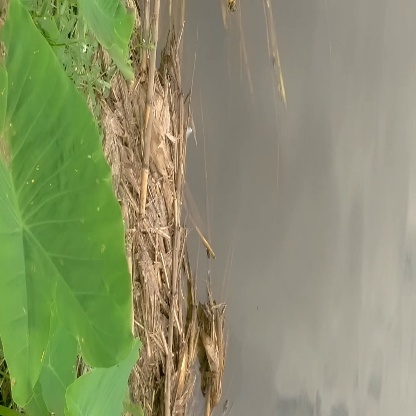branch: (192, 299, 241, 416)
